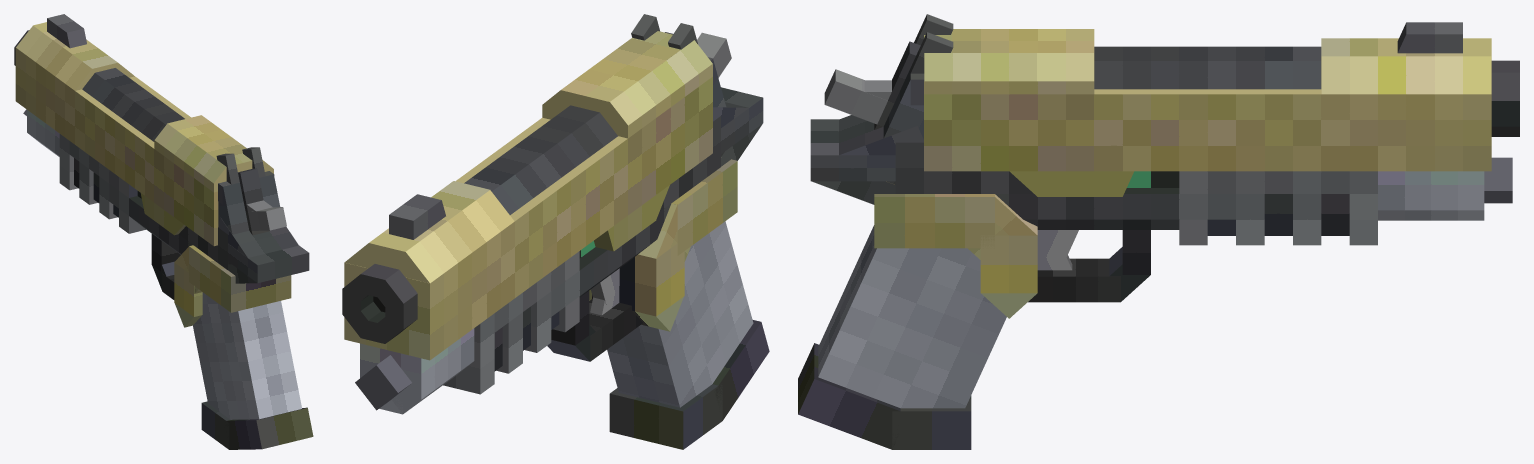
The model's file is Minecraft_Pistol.obj.
The picture shows the model from 3 angles, left to right: view 1: azimuth 30°, elevation 25°; view 2: azimuth 150°, elevation 25°; view 3: azimuth 270°, elevation 25°; orthographic projection. The views are drawn at different scales.
Visible parts, largest first — view 1: Object_84, Object_62, Object_11, Object_13, Object_87, Object_32, Object_64_1, Object_78, Object_80, Object_20_1, Object_30, Object_66 (+21 smaller); view 2: Object_84, Object_62, Object_7_1, Object_87, Object_78, Object_64_1, Object_8, Object_11, Object_80, Object_125, Object_66, Object_50 (+34 smaller); view 3: Object_84, Object_62, Object_85, Object_68, Object_11, Object_50, Object_76_1, Object_13, Object_125, Object_58_1, Object_34_1, Object_78 (+31 smaller).
Boxes of the visible parts, <box> form: Object_84: <box>15,48,218,246</box>; Object_62: <box>193,292,301,419</box>; Object_11: <box>189,245,291,312</box>; Object_13: <box>227,407,313,449</box>; Object_87: <box>16,25,92,90</box>; Object_32: <box>228,243,309,282</box>; Object_64_1: <box>82,73,165,141</box>; Object_78: <box>167,115,252,172</box>; Object_80: <box>155,123,226,183</box>; Object_20_1: <box>218,174,280,264</box>; Object_30: <box>218,217,298,257</box>; Object_66: <box>95,68,184,124</box>; Object_84: <box>344,76,712,360</box>; Object_62: <box>607,221,753,407</box>; Object_7_1: <box>609,384,722,449</box>; Object_87: <box>405,190,514,283</box>; Object_78: <box>560,31,680,120</box>; Object_64_1: <box>492,112,617,214</box>; Object_8: <box>589,243,684,316</box>; Object_11: <box>671,157,737,255</box>; Object_80: <box>609,40,712,125</box>; Object_125: <box>360,328,474,399</box>; Object_66: <box>464,105,599,191</box>; Object_50: <box>551,204,670,316</box>; Object_84: <box>924,53,1491,171</box>; Object_62: <box>818,225,1006,408</box>; Object_85: <box>1321,56,1491,94</box>; Object_68: <box>1094,61,1321,89</box>; Object_11: <box>874,181,994,248</box>; Object_50: <box>995,188,1235,219</box>; Object_76_1: <box>924,53,1093,81</box>; Object_13: <box>798,343,900,449</box>; Object_125: <box>1378,171,1484,210</box>; Object_58_1: <box>1179,171,1349,193</box>; Object_34_1: <box>895,142,1033,193</box>; Object_78: <box>924,29,1094,52</box>.
Bounding box in the file's own units: 66.51 × 300 × 483.
1 material, 1 textured.
